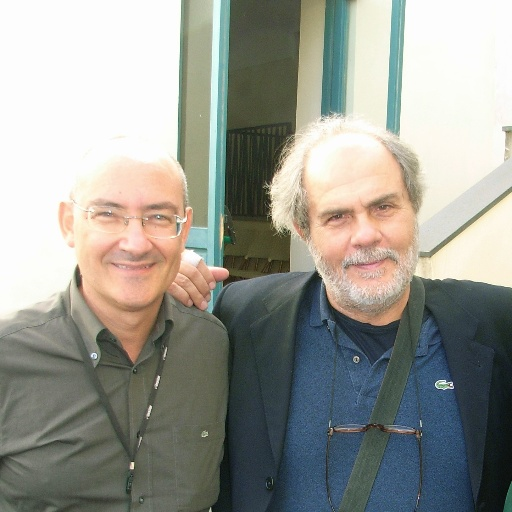hand: (157, 240, 231, 304)
